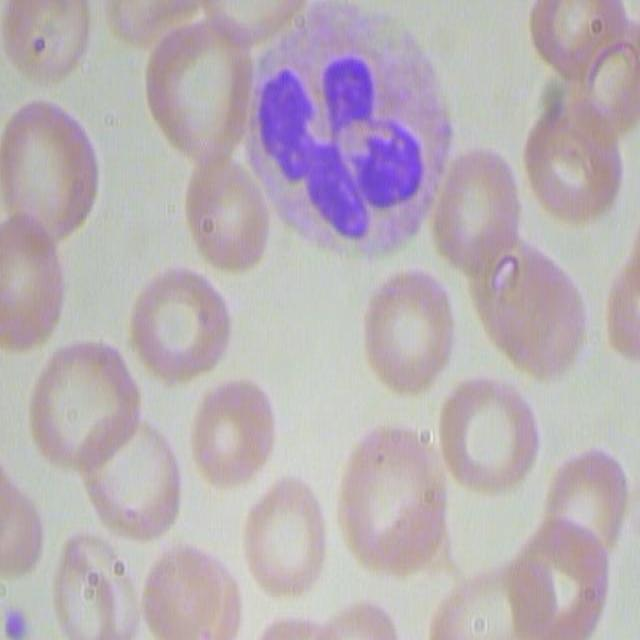RBC: (328, 421, 444, 579), (474, 235, 593, 384), (139, 0, 248, 153), (24, 340, 140, 477), (0, 92, 103, 244), (505, 504, 617, 638), (433, 370, 543, 506), (126, 265, 236, 398), (518, 96, 621, 227), (80, 415, 184, 544), (359, 266, 453, 396), (182, 144, 270, 277), (181, 374, 276, 494), (430, 139, 516, 268), (238, 479, 328, 601), (49, 524, 145, 637), (538, 442, 632, 554), (139, 538, 242, 638), (0, 208, 64, 354), (563, 18, 640, 134), (2, 0, 94, 86), (527, 0, 625, 77), (428, 567, 522, 640), (0, 449, 40, 579), (603, 221, 640, 361), (187, 0, 310, 40), (268, 609, 412, 640)
WBC: (237, 0, 446, 262)
platelets: (7, 594, 32, 640)
